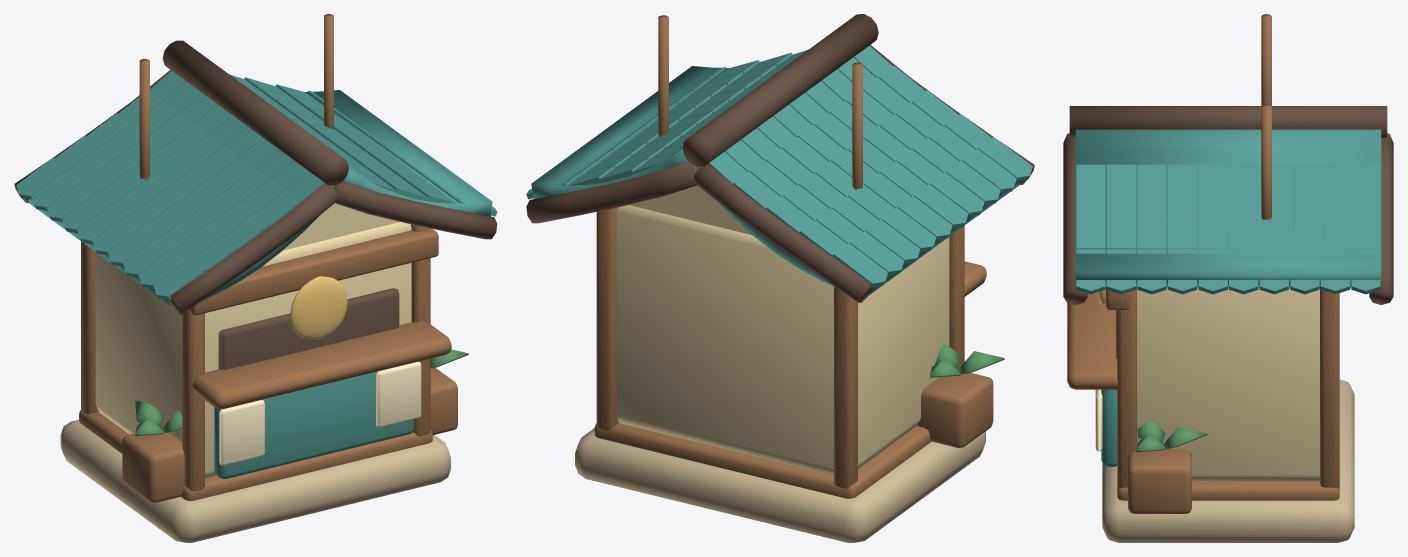
Rendered from booth_checkout.glb.
3 renders of one model, left to right at view 1: azimuth 30°, elevation 25°; view 2: azimuth 150°, elevation 25°; view 3: azimuth 270°, elevation 25°, orthographic. The views are drawn at different scales.
Parts seen in each view (by area): view 1: booth_checkout_crafted_mesh; view 2: booth_checkout_crafted_mesh; view 3: booth_checkout_crafted_mesh.
Part boxes in pixels (bbox=[...]): booth_checkout_crafted_mesh: bbox=[14, 14, 497, 542]; booth_checkout_crafted_mesh: bbox=[526, 14, 1034, 542]; booth_checkout_crafted_mesh: bbox=[1063, 14, 1393, 542].
Bounding box in the file's own units: 2.57 × 3.05 × 2.17.
